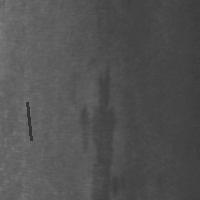inclusion: (77, 69, 123, 198), (25, 100, 33, 142)
